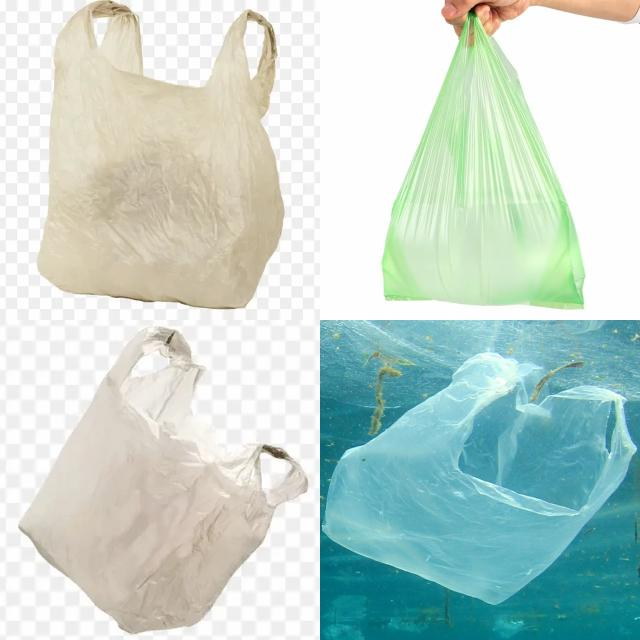Single-layer Plastic: (19, 328, 308, 632), (322, 352, 636, 603), (38, 0, 284, 309), (382, 14, 585, 309)
